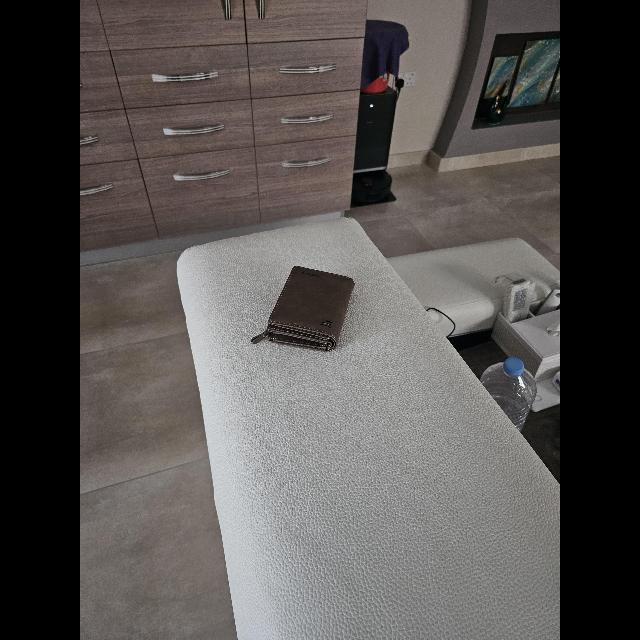Wallet: (252, 266, 356, 350)
